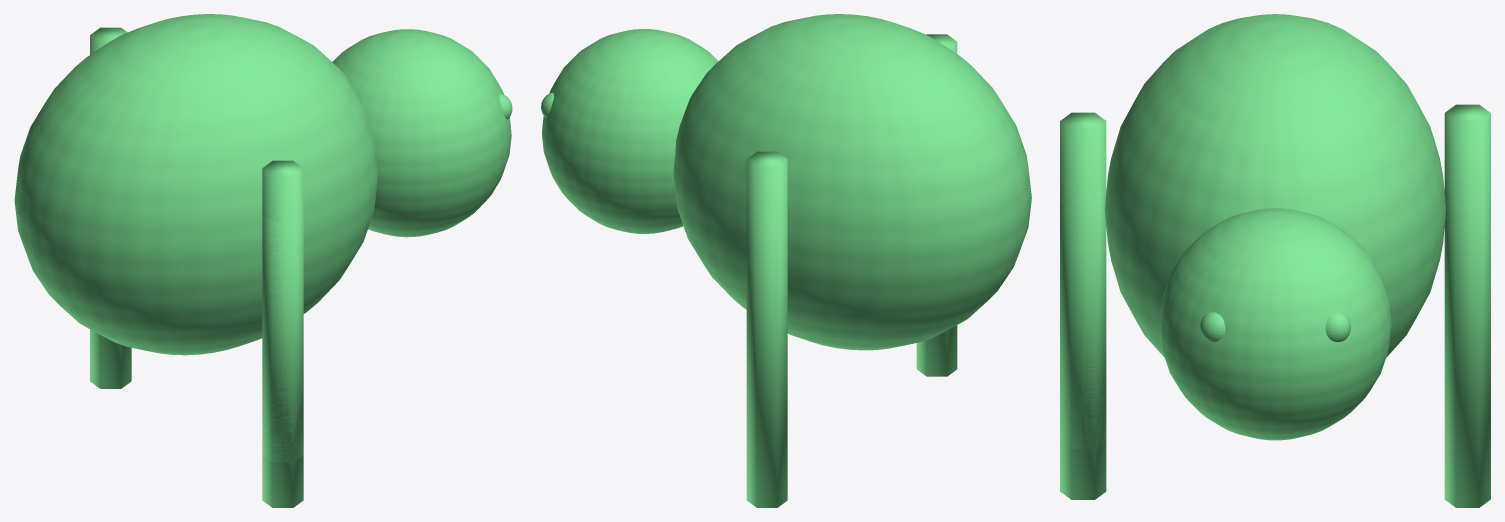
File: adhesion_bug_04.glb
3 renders of one model, left to right at view 1: azimuth 30°, elevation 25°; view 2: azimuth 150°, elevation 25°; view 3: azimuth 270°, elevation 25°, orthographic. The views are drawn at different scales.
Visible parts, largest first — view 1: adhesion_bug_04; view 2: adhesion_bug_04; view 3: adhesion_bug_04.
Boxes of the visible parts, left/top/right/bottom form: adhesion_bug_04: left=14, top=14, right=512, bottom=507; adhesion_bug_04: left=541, top=14, right=1031, bottom=507; adhesion_bug_04: left=1060, top=14, right=1490, bottom=507.
Size of the model in its own units: 2.6 by 2.21 by 1.86.
